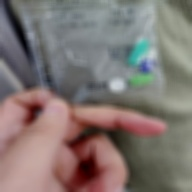러키펜정: (108, 79, 127, 93)
씨엠지세파클러캡슐: (140, 49, 157, 73)
에르도캡슐: (128, 39, 150, 66)
휴티렌정: (130, 73, 154, 87)
